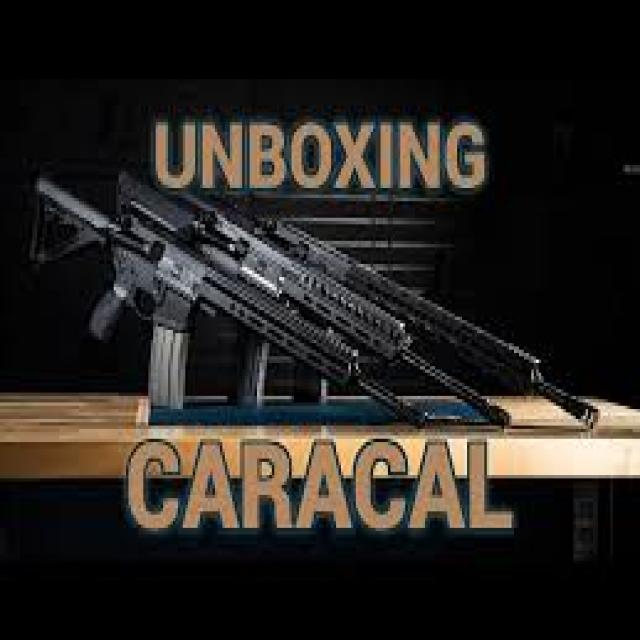Gun: (105, 151, 518, 486), (25, 158, 437, 476), (184, 172, 605, 471)
